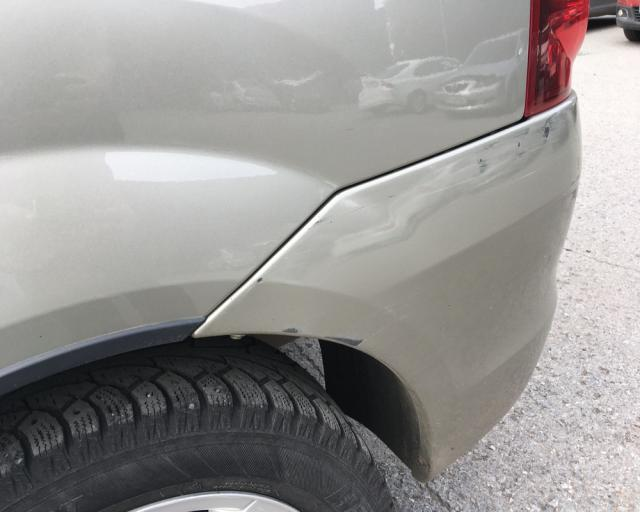scratch: (466, 107, 572, 181), (279, 326, 369, 350)
